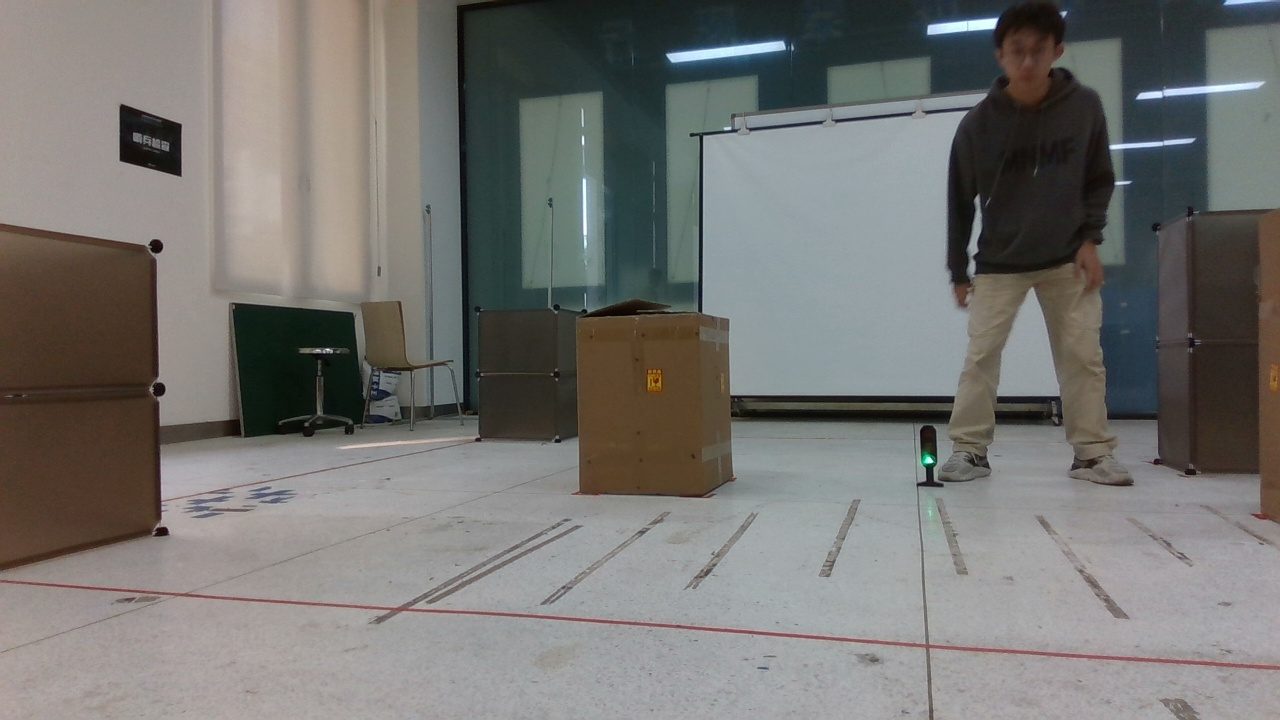green_light: (908, 405, 948, 492)
